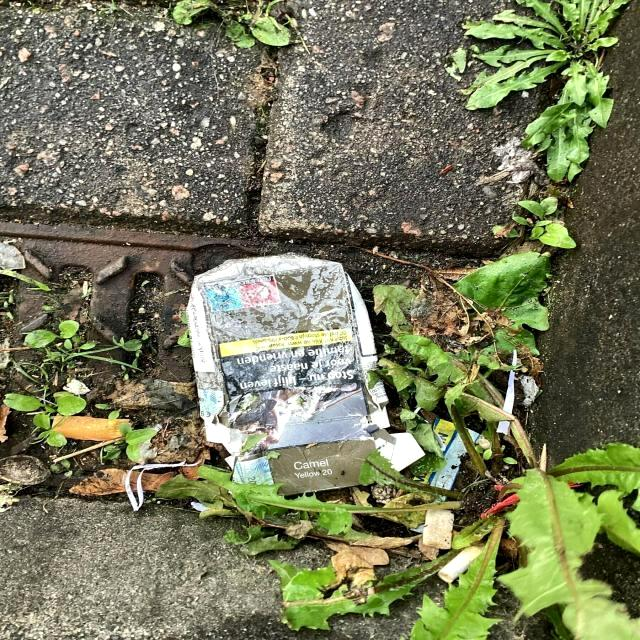Paper: (182, 250, 430, 500)
